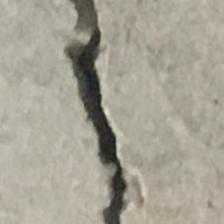Crack: (34, 0, 176, 224)
